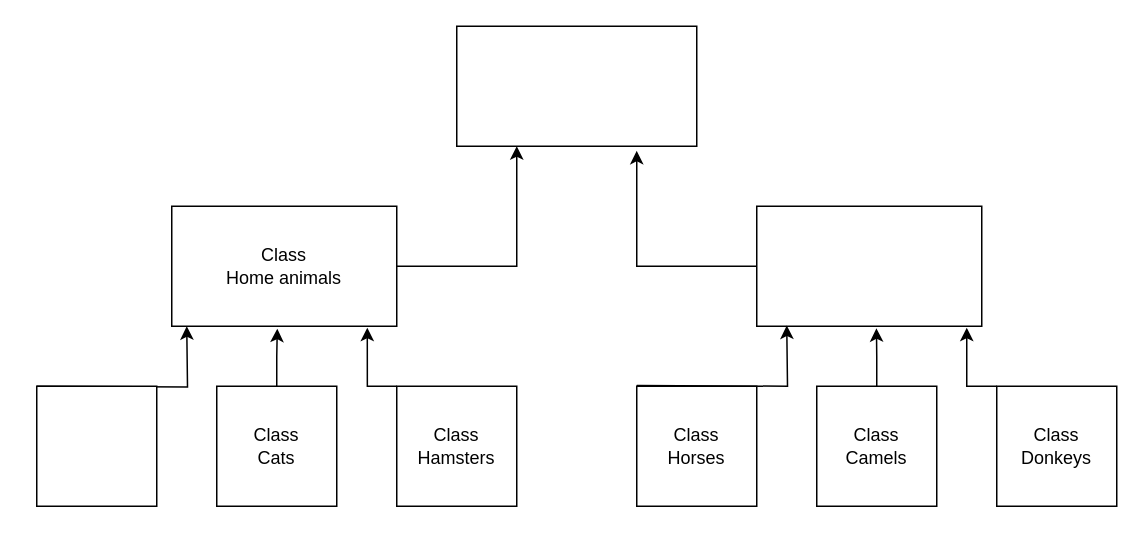
Some shapes in this 1143 by 533 pixel diagram are drawn without their labels. Each missing label, with the centre of its shape:
"Class Animals" belongs at point (576, 85).
"Class Dogs" belongs at point (96, 445).
"Class Pack animals" belongs at point (868, 265).
